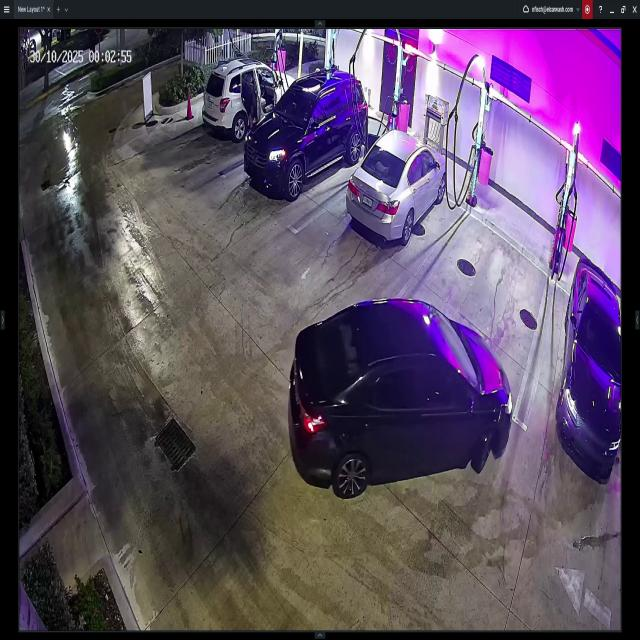Car: (288, 300, 512, 487), (241, 68, 367, 200), (560, 259, 626, 474), (347, 130, 447, 246), (205, 56, 297, 154)
